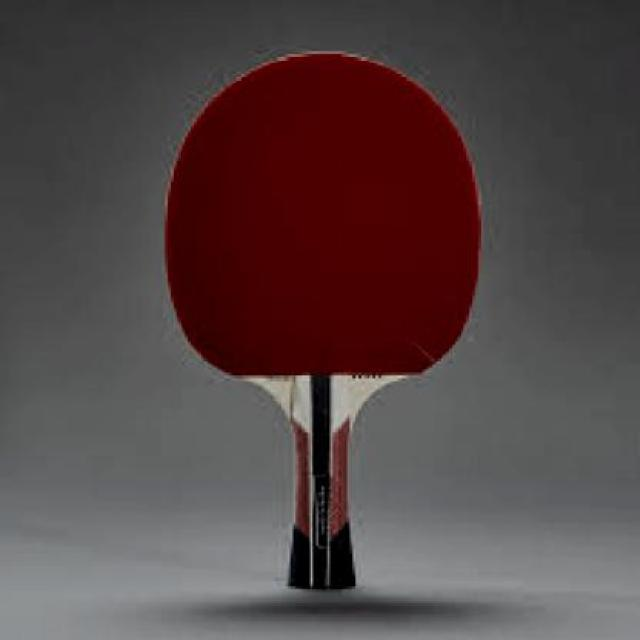table_tennis_racket: (163, 54, 483, 594)
